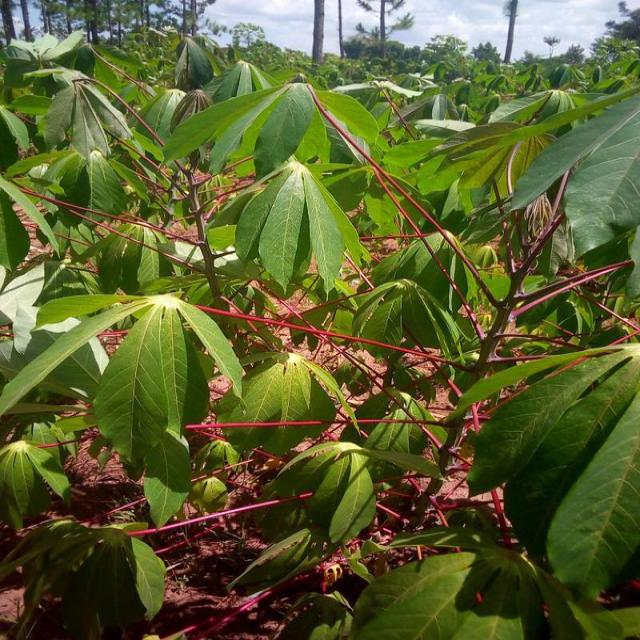cassava leaf: (1, 33, 638, 636)
